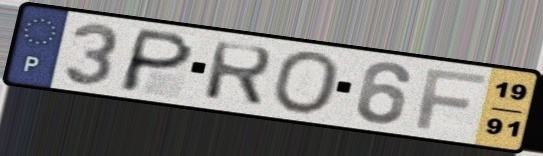3: (61, 20, 121, 88)
6: (353, 60, 413, 126)
F: (412, 66, 489, 132)
O: (268, 49, 343, 117)
P: (114, 26, 198, 96)
R: (201, 39, 276, 109)
